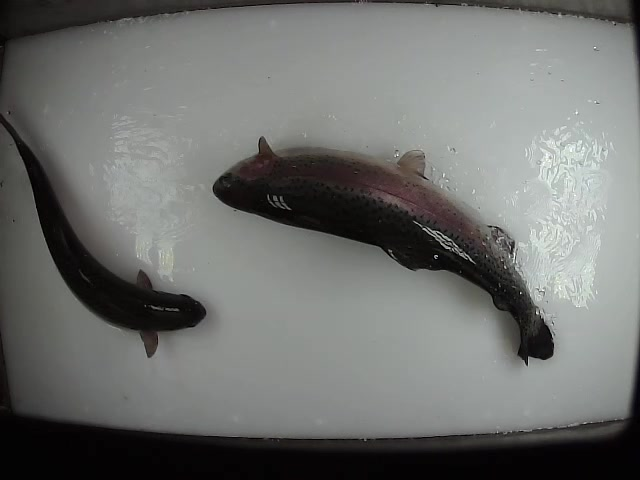Fish: (209, 135, 554, 368), (1, 112, 206, 358)
